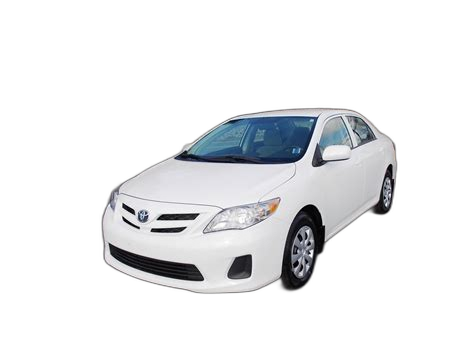car: (98, 104, 404, 301)
